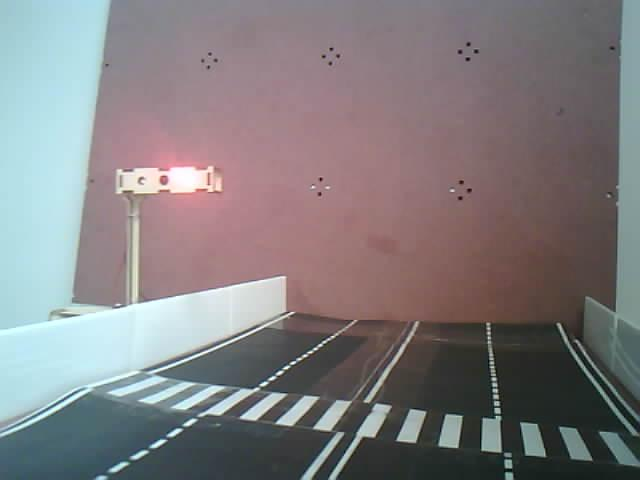crosswalk: (69, 346, 639, 479)
no: (97, 158, 234, 215)
